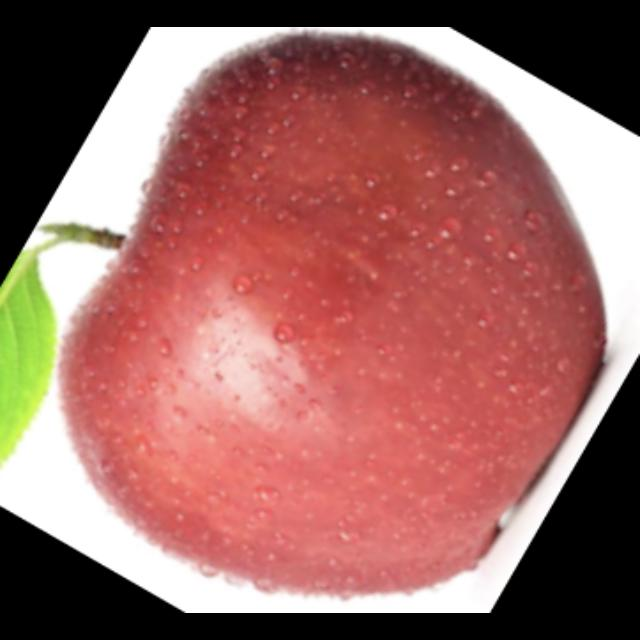Apel Segar: (53, 30, 602, 587)
